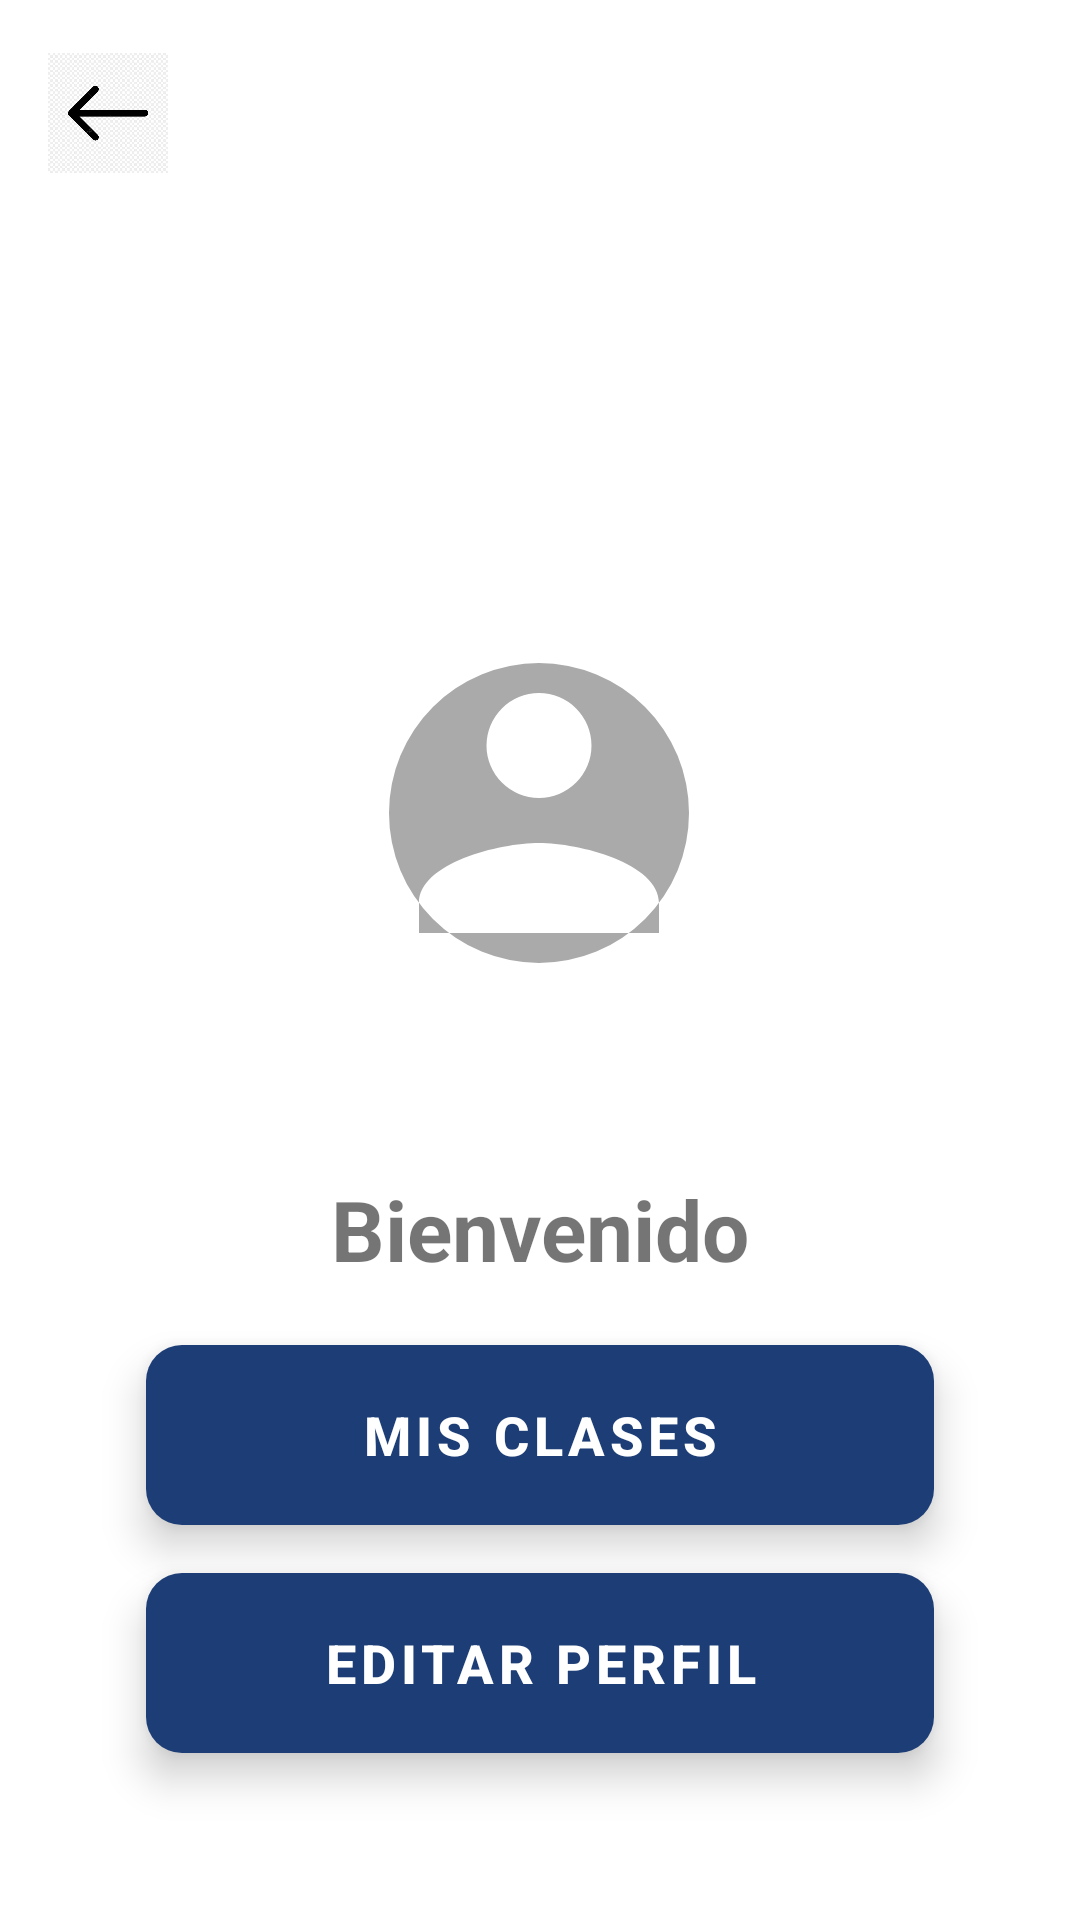

Icon bounding boxes for this 1080 x 1920 phone screenshot, format (x1, y1, x2, y2):
Retroceder: (68, 86, 148, 146)
